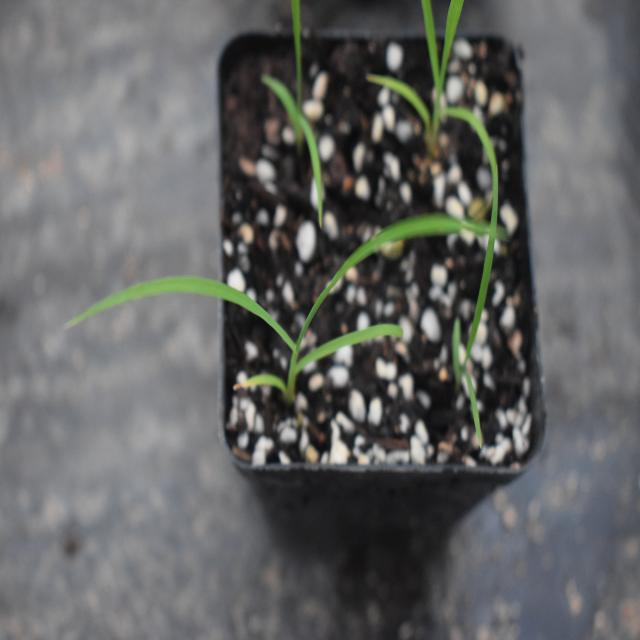barnyard_grass: (66, 143, 488, 417)
